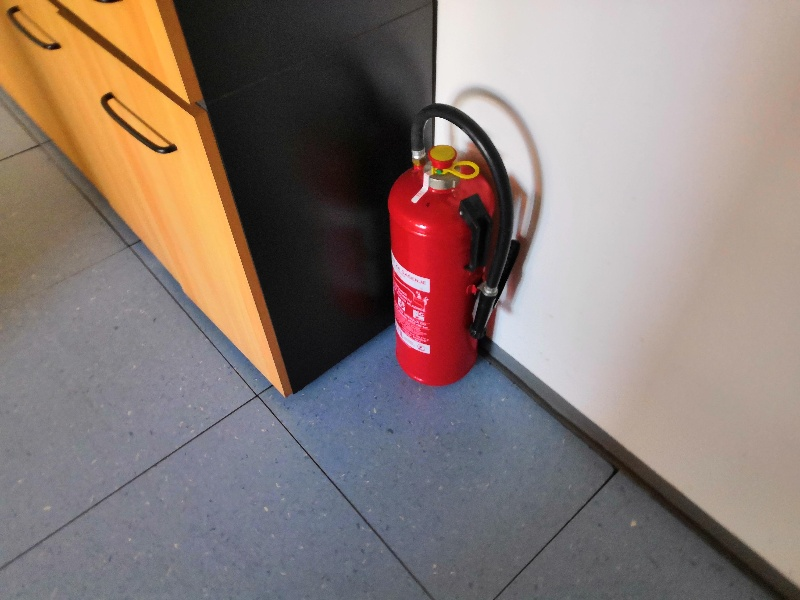vataparat: (387, 104, 521, 388)
